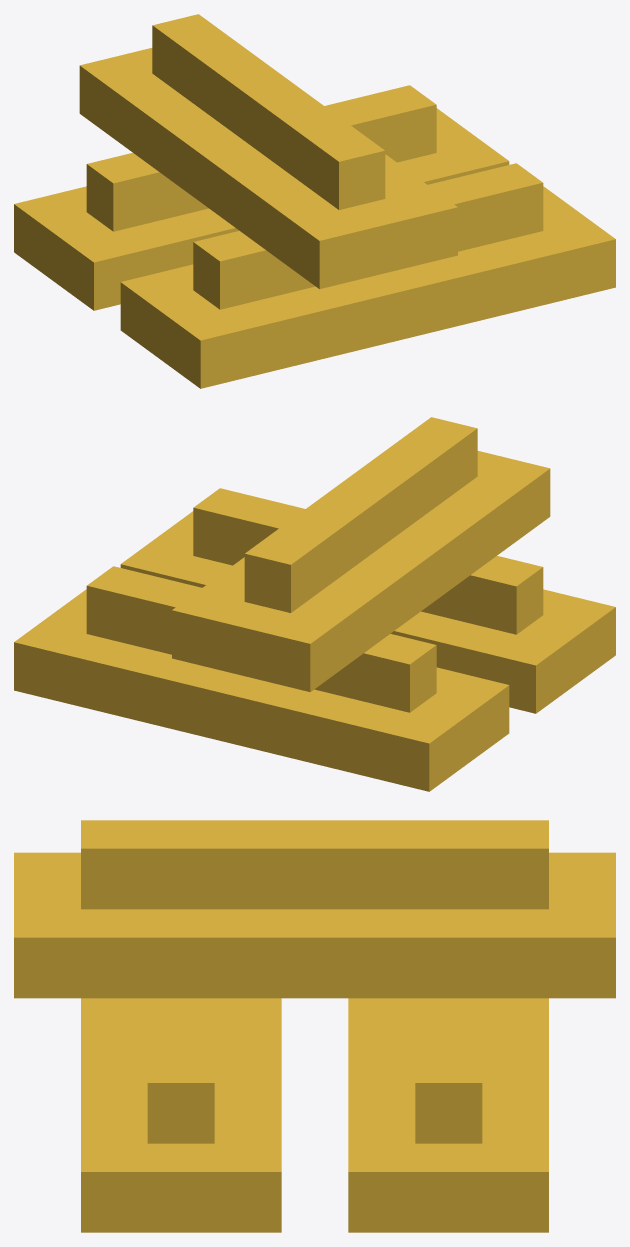
Rendered from gold_bars.obj.
3 views of the same model, one above another, from view 1: azimuth 30°, elevation 25°; view 2: azimuth 150°, elevation 25°; view 3: azimuth 270°, elevation 25° (orthographic). The views are drawn at different scales.
Size of the model in its own units: 0.9 by 0.4 by 0.9.
Materials: 1 (1 with a texture image).
